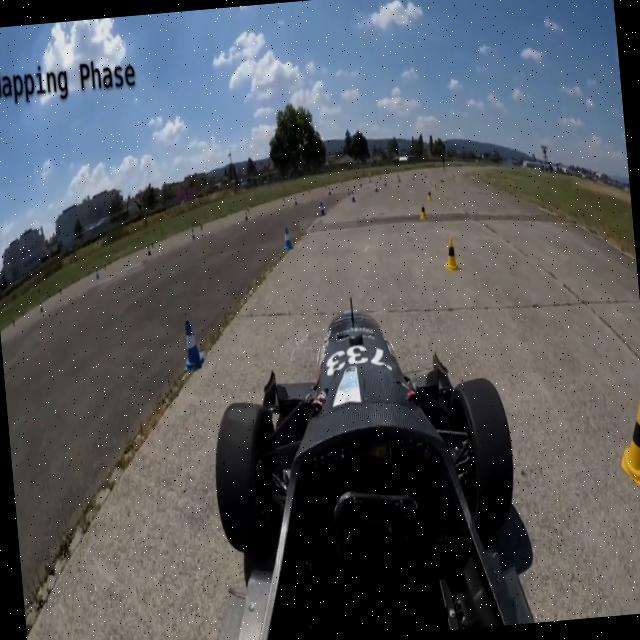blue_cone: (178, 316, 208, 371), (282, 225, 294, 252), (318, 200, 326, 217)
yellow_cone: (609, 384, 640, 491), (441, 235, 462, 272), (418, 202, 428, 222), (426, 189, 433, 201)
